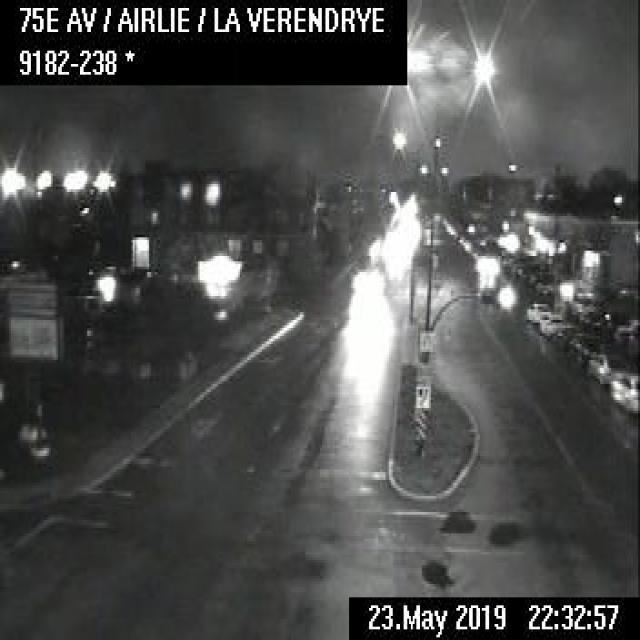vehicle: (608, 368, 638, 413), (586, 348, 620, 385), (566, 333, 598, 362), (537, 311, 567, 340), (525, 299, 551, 322)
